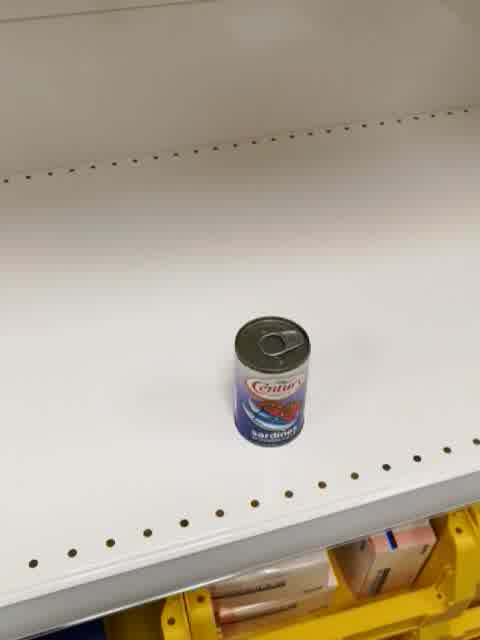sardine: (234, 316, 311, 449)
